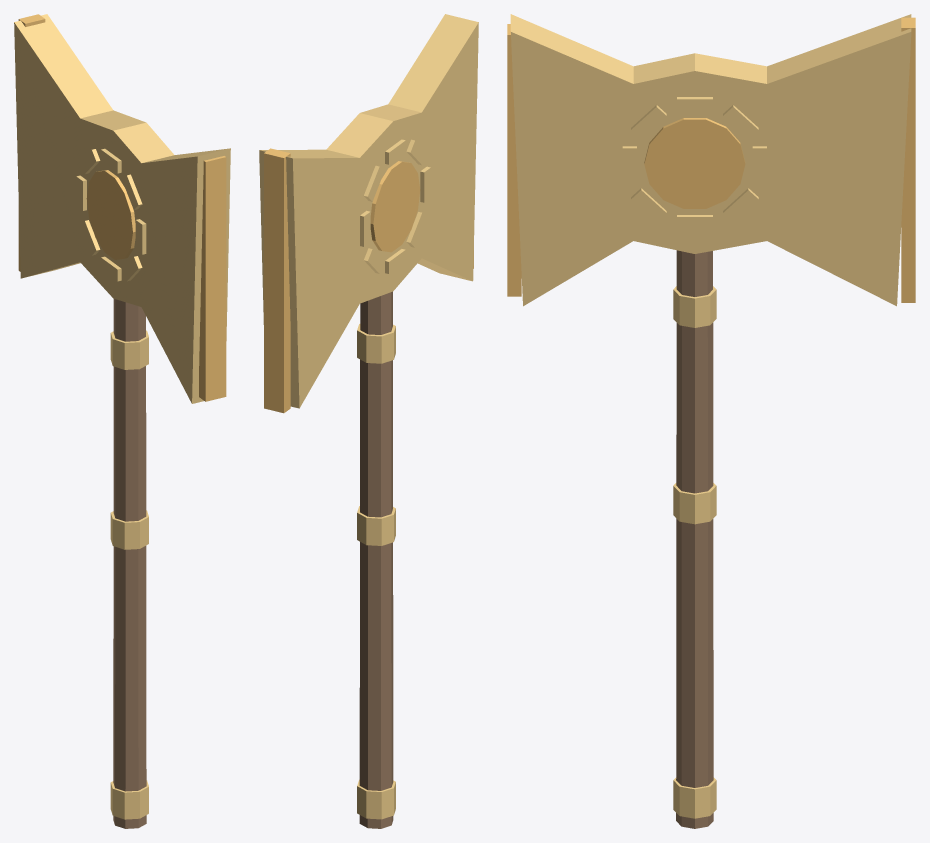
The model's file is Axe_9.fbx.
The picture shows the model from 3 angles, left to right: view 1: azimuth 30°, elevation 25°; view 2: azimuth 150°, elevation 25°; view 3: azimuth 270°, elevation 25°; orthographic projection. The views are drawn at different scales.
Parts seen in each view (by area): view 1: Axe_9_Mesh; view 2: Axe_9_Mesh; view 3: Axe_9_Mesh.
Part boxes in pixels (box(x1,y1,x2,y2)): Axe_9_Mesh: box(14, 14, 230, 828); Axe_9_Mesh: box(259, 14, 478, 828); Axe_9_Mesh: box(507, 14, 915, 828).
Size of the model in its own units: 0.072 by 1.22 by 0.566.
